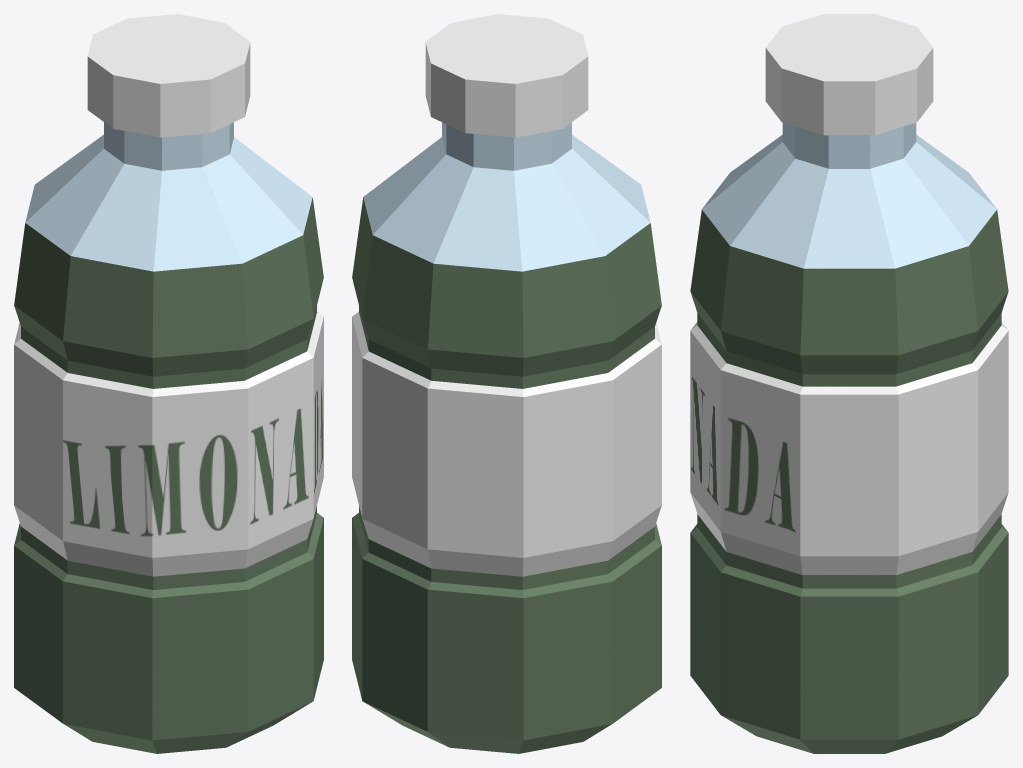
File: BotellaLimonada.fbx
3 views of the same model, side by side, from view 1: azimuth 30°, elevation 25°; view 2: azimuth 150°, elevation 25°; view 3: azimuth 270°, elevation 25° (orthographic).
Visible parts, largest first — view 1: p5_botella_agua_limonada; view 2: p5_botella_agua_limonada; view 3: p5_botella_agua_limonada.
Part boxes in pixels (x1,y1,x2,y2): p5_botella_agua_limonada: (14,14,323,753); p5_botella_agua_limonada: (352,14,661,753); p5_botella_agua_limonada: (690,14,1008,753).
Size of the model in its own units: 0.2036 by 0.49 by 0.2141.
